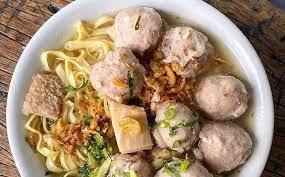bakso: (34, 16, 252, 177)
